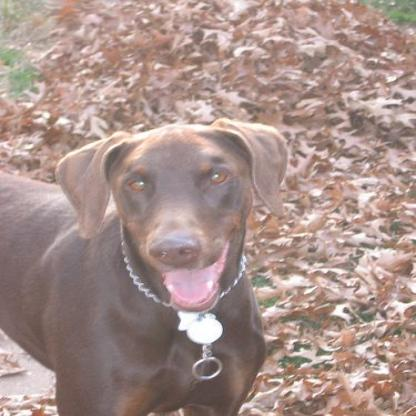Doberman: (0, 116, 290, 414)
